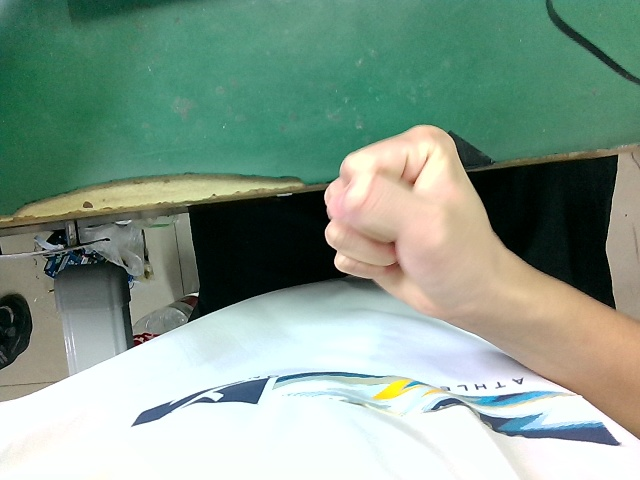stone: (304, 109, 519, 333)
